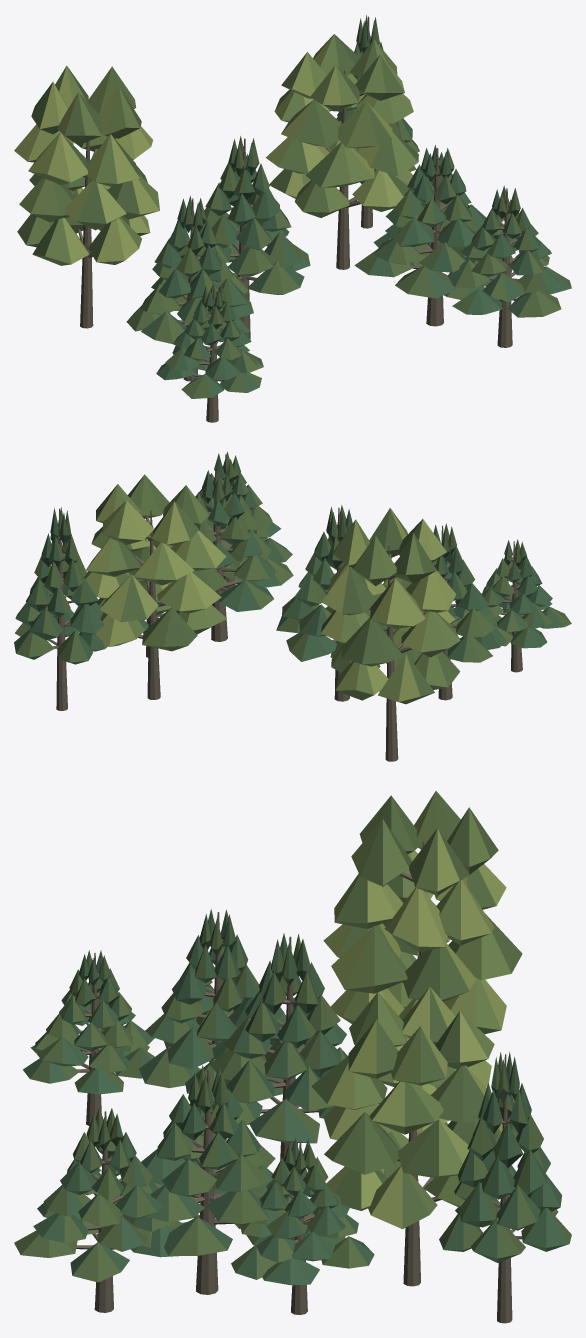
The model's file is TREE11.glb.
3 views of the same model, one above another, from view 1: azimuth 30°, elevation 25°; view 2: azimuth 150°, elevation 25°; view 3: azimuth 270°, elevation 25° (orthographic). The views are drawn at different scales.
Visible parts, largest first — view 1: Fitted street and landscape details; view 2: Fitted street and landscape details; view 3: Fitted street and landscape details.
Part boxes in pixels (x1,y1,x2,y2): Fitted street and landscape details: [14, 15, 571, 422]; Fitted street and landscape details: [14, 451, 571, 761]; Fitted street and landscape details: [14, 791, 571, 1323].
Size of the model in its own units: 15.28 by 8.52 by 13.59.
